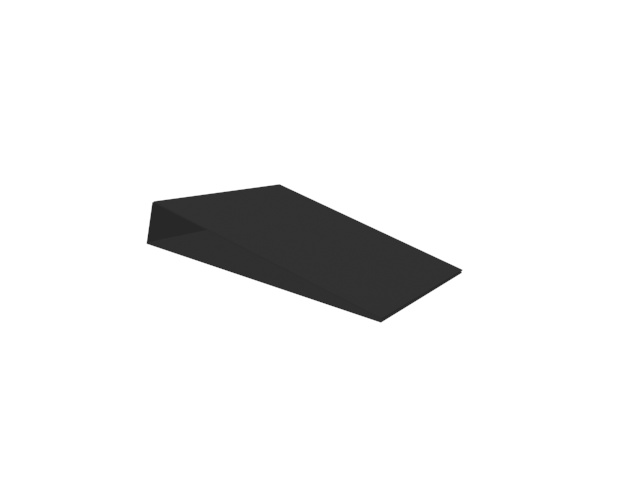ring_binder: (145, 185, 464, 328)
